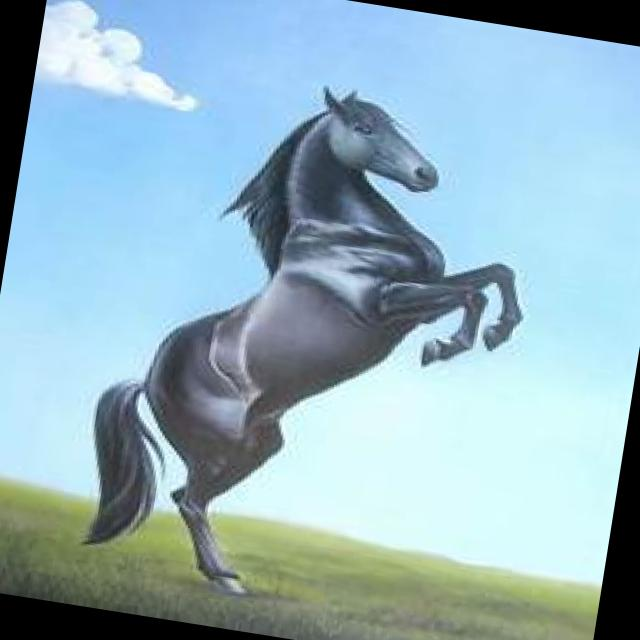animal: (84, 59, 552, 630)
